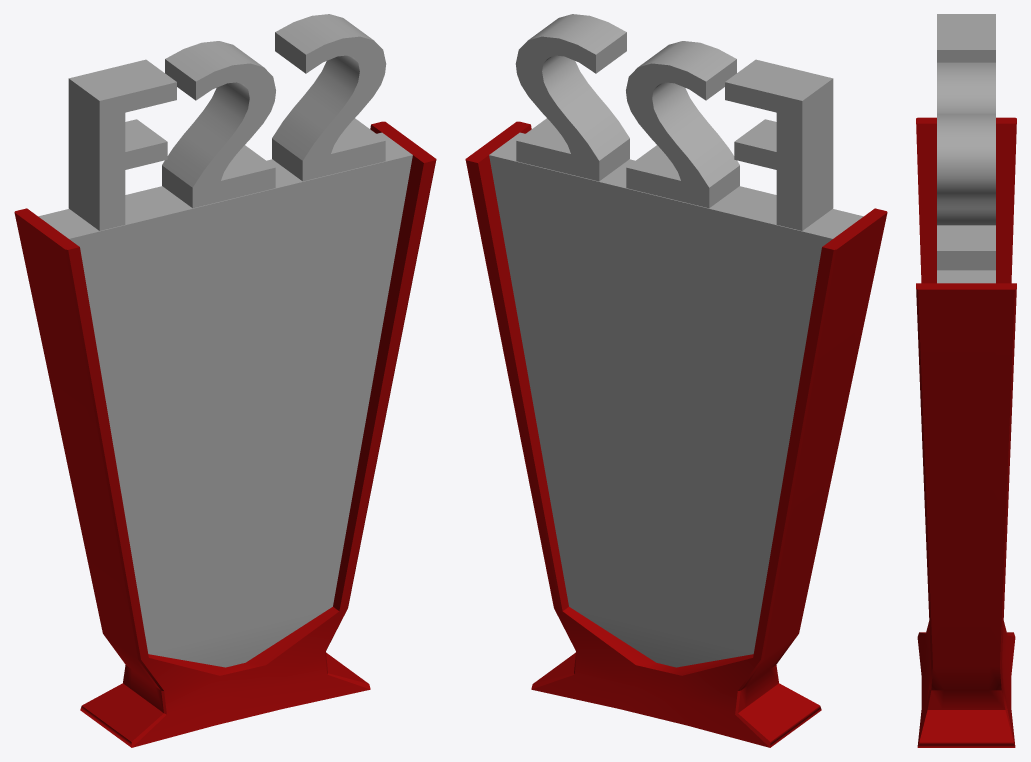
The model's file is credit_f22.fbx.
The picture shows the model from 3 angles, left to right: view 1: azimuth 30°, elevation 25°; view 2: azimuth 150°, elevation 25°; view 3: azimuth 270°, elevation 25°; orthographic projection. The views are drawn at different scales.
Parts seen in each view (by area): view 1: plaque, titleText; view 2: plaque, titleText; view 3: plaque, titleText.
Boxes of the visible parts, <box> form: plaque: <box>14,121,436,747</box>; titleText: <box>68,14,386,230</box>; plaque: <box>465,121,887,747</box>; titleText: <box>515,14,833,230</box>; plaque: <box>916,117,1016,747</box>; titleText: <box>937,14,995,270</box>.
Bounding box in the file's own units: 20.82 × 34.74 × 5.15.
